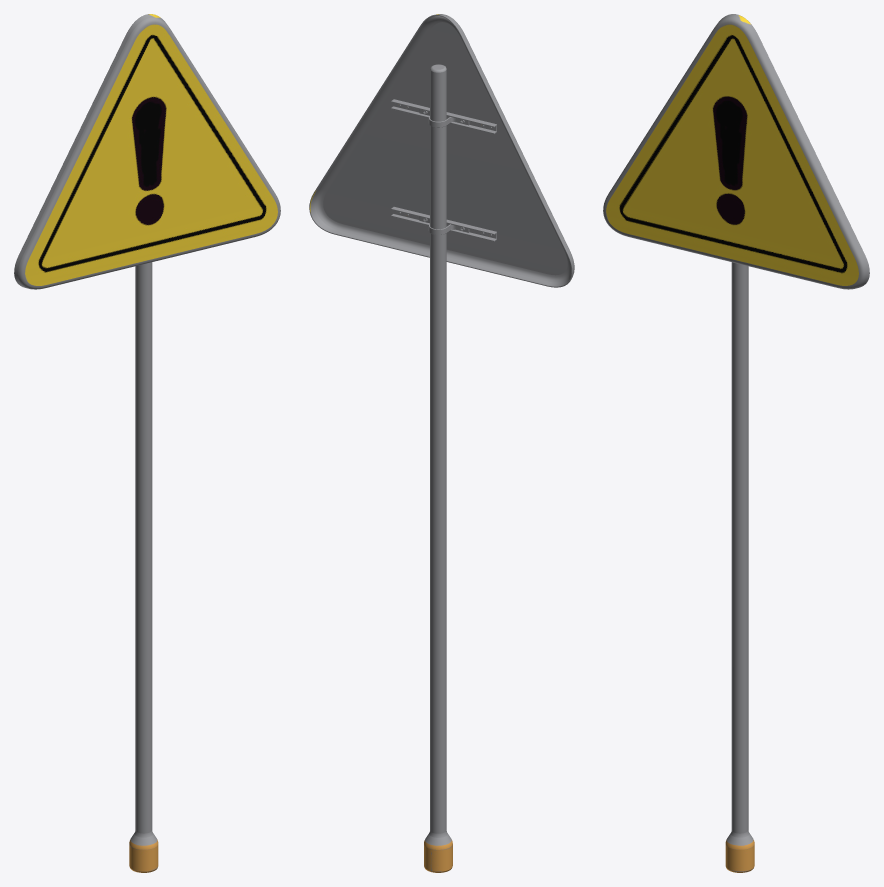
Rendered from WarningSign.fbx.
The picture shows the model from 3 angles, left to right: view 1: azimuth 30°, elevation 25°; view 2: azimuth 150°, elevation 25°; view 3: azimuth 330°, elevation 25°; orthographic projection.
Visible parts, largest first — view 1: gt; view 2: gt; view 3: gt.
Boxes of the visible parts, box(x1,y1,x2,y2) form: gt: box(14, 14, 280, 872); gt: box(309, 14, 574, 872); gt: box(603, 14, 869, 872).
Size of the model in its own units: 8.07 by 24.89 by 0.7883.
Materials: 1 (1 with a texture image).
